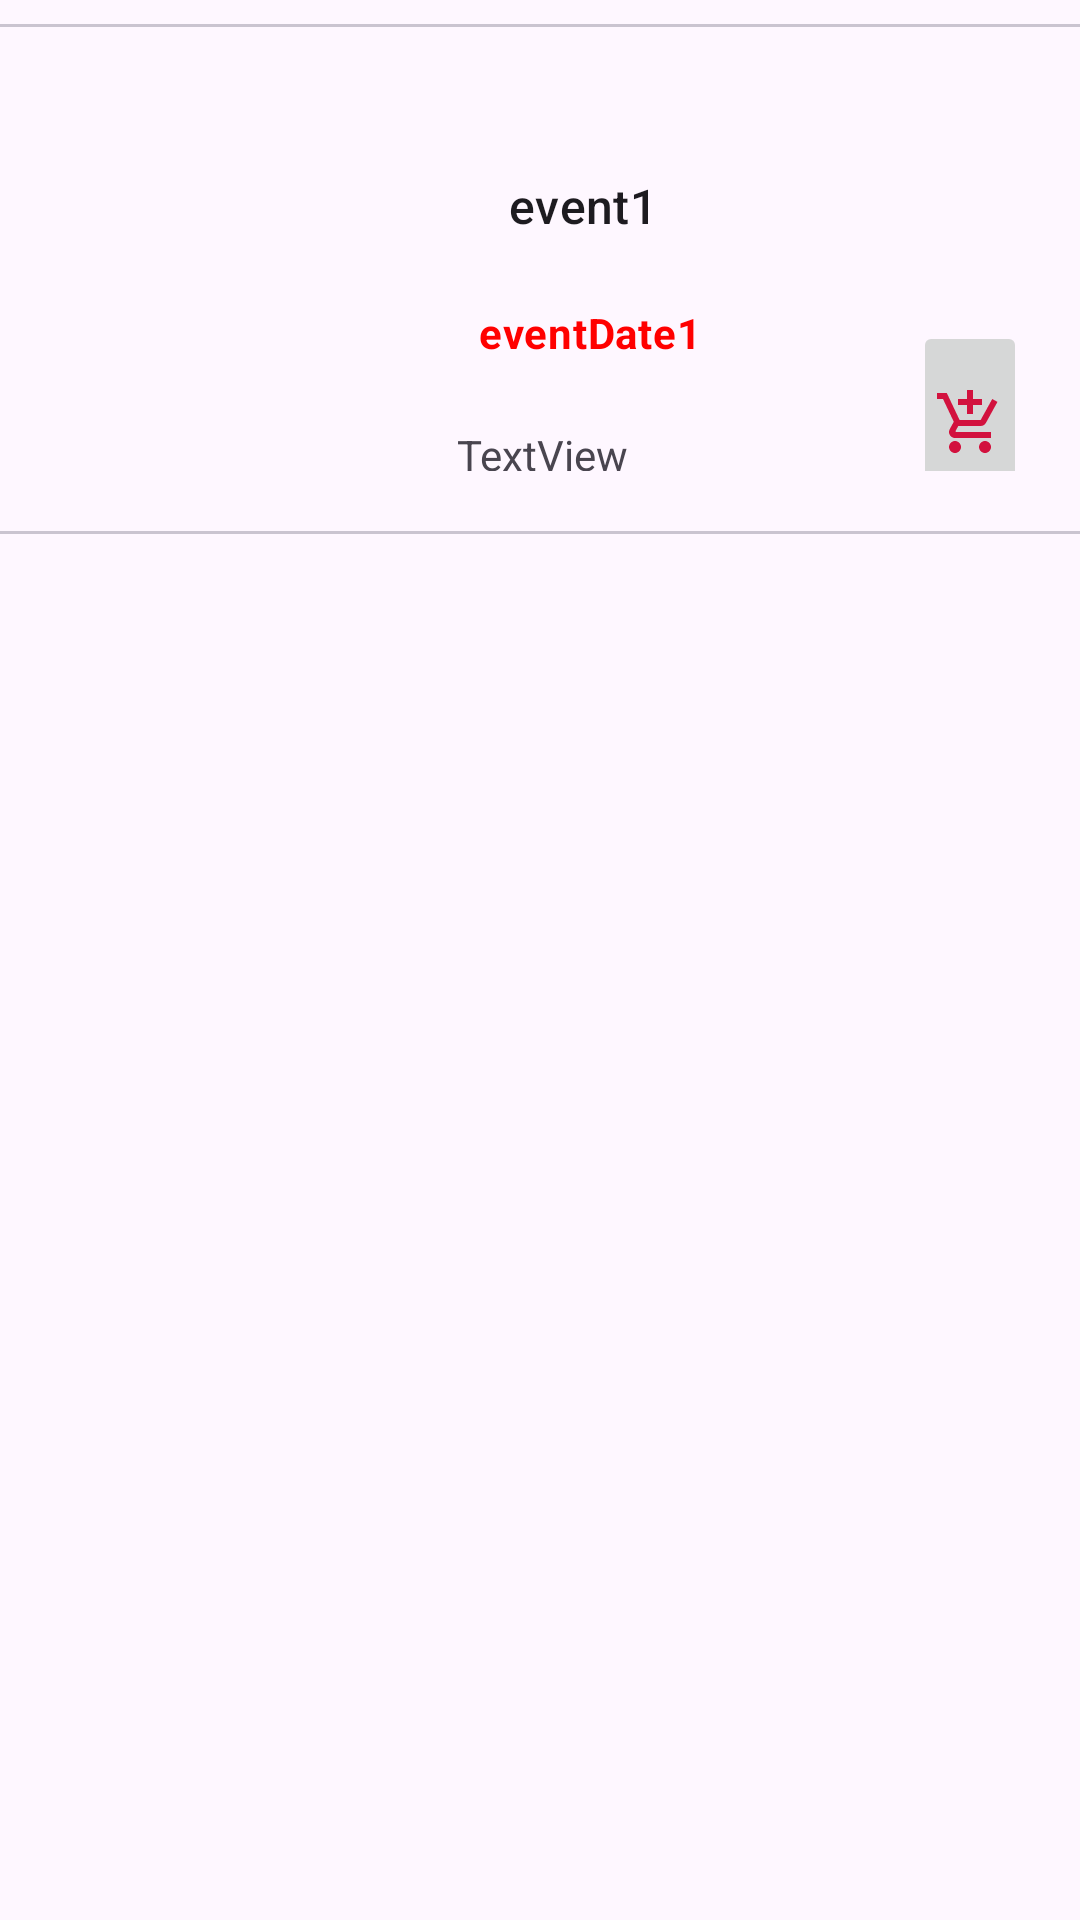

Icon bounding boxes for this 1080px×1920px phone screenshot, format [x1,y1,x2,y2]:
add shopping cart: [925,339,1015,471]
